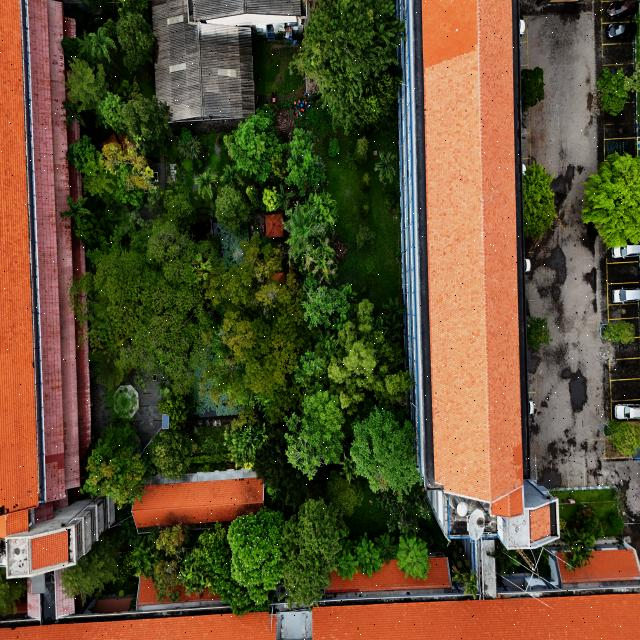Tree: (348, 404, 426, 502), (518, 160, 558, 239), (594, 56, 636, 120), (394, 522, 432, 584), (216, 182, 252, 234), (518, 59, 549, 110), (607, 308, 640, 354), (524, 316, 552, 352), (374, 150, 402, 184), (262, 180, 280, 213)
